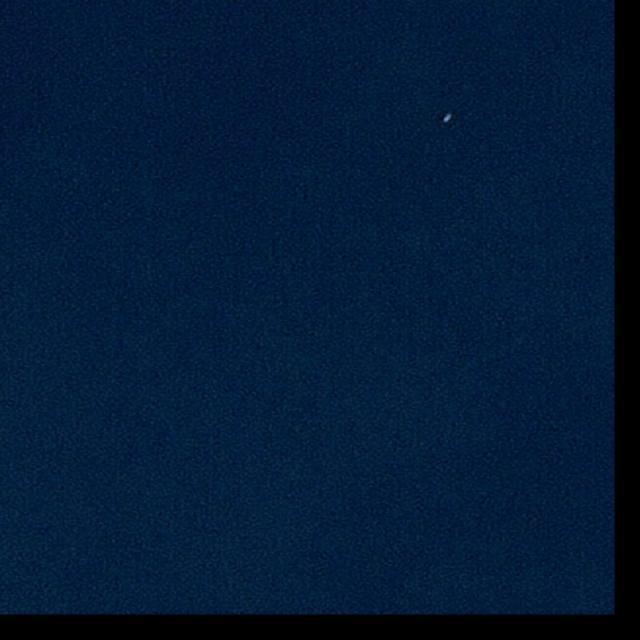ship: (442, 112, 454, 125)
